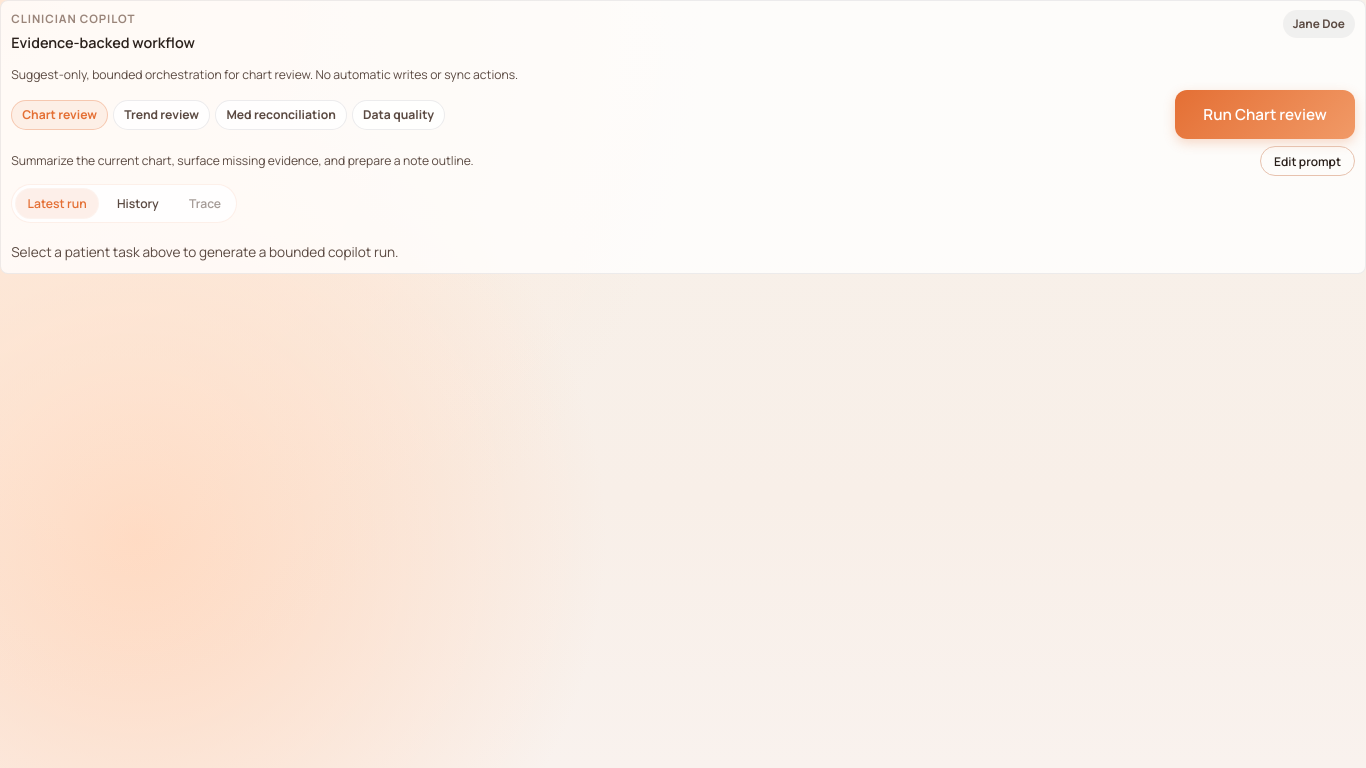
Test: runs a preset clinician copilot workflow and switches between latest run, history, and trace views
Check: the text "Clinician Copilot" is shown, box left=11, top=11, right=135, bottom=26
Check: the text "Select a patient task above to generate a bounded copilot run." is shown, box left=11, top=243, right=398, bottom=261
Click the button "Run Chart review" at point(1265, 115), box left=1175, top=90, right=1355, bottom=139
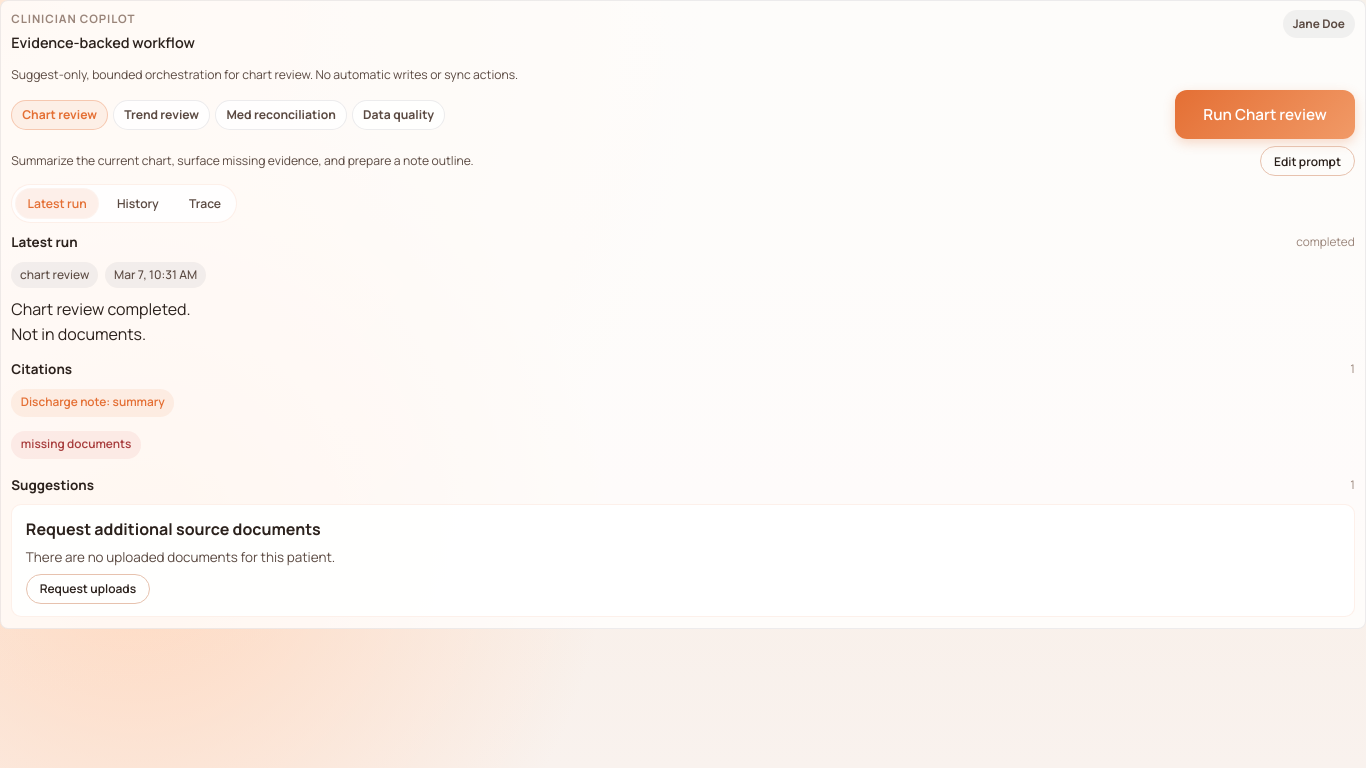
Check: the text "Chart review completed. Not in documents." is shown, box left=11, top=298, right=191, bottom=345
Check: the text "missing documents" is shown, box left=11, top=431, right=141, bottom=459
Check: the heading "Citations" is shown, box left=11, top=359, right=72, bottom=381
Click the button "Request uploads" at point(88, 589), box left=26, top=574, right=150, bottom=604
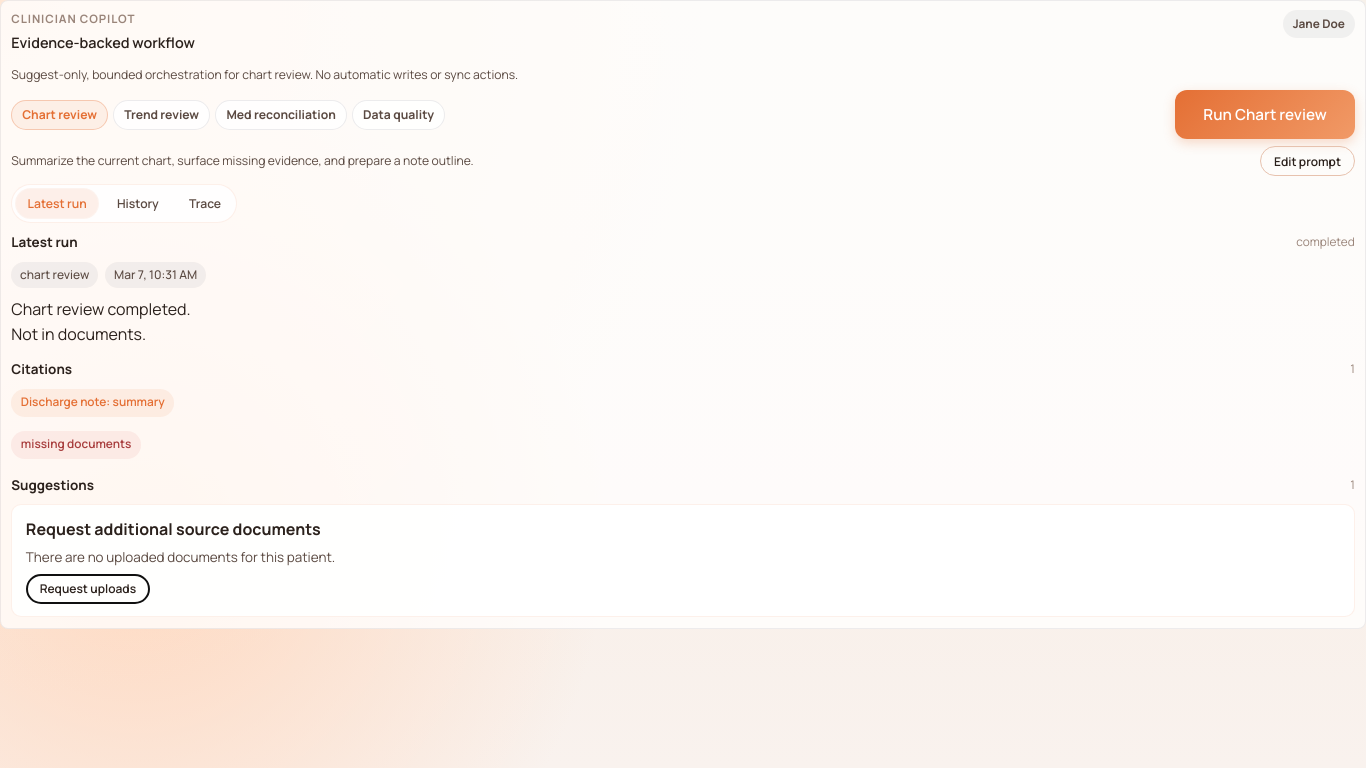
Click the tab "Trace" at point(205, 203), box left=178, top=189, right=233, bottom=218
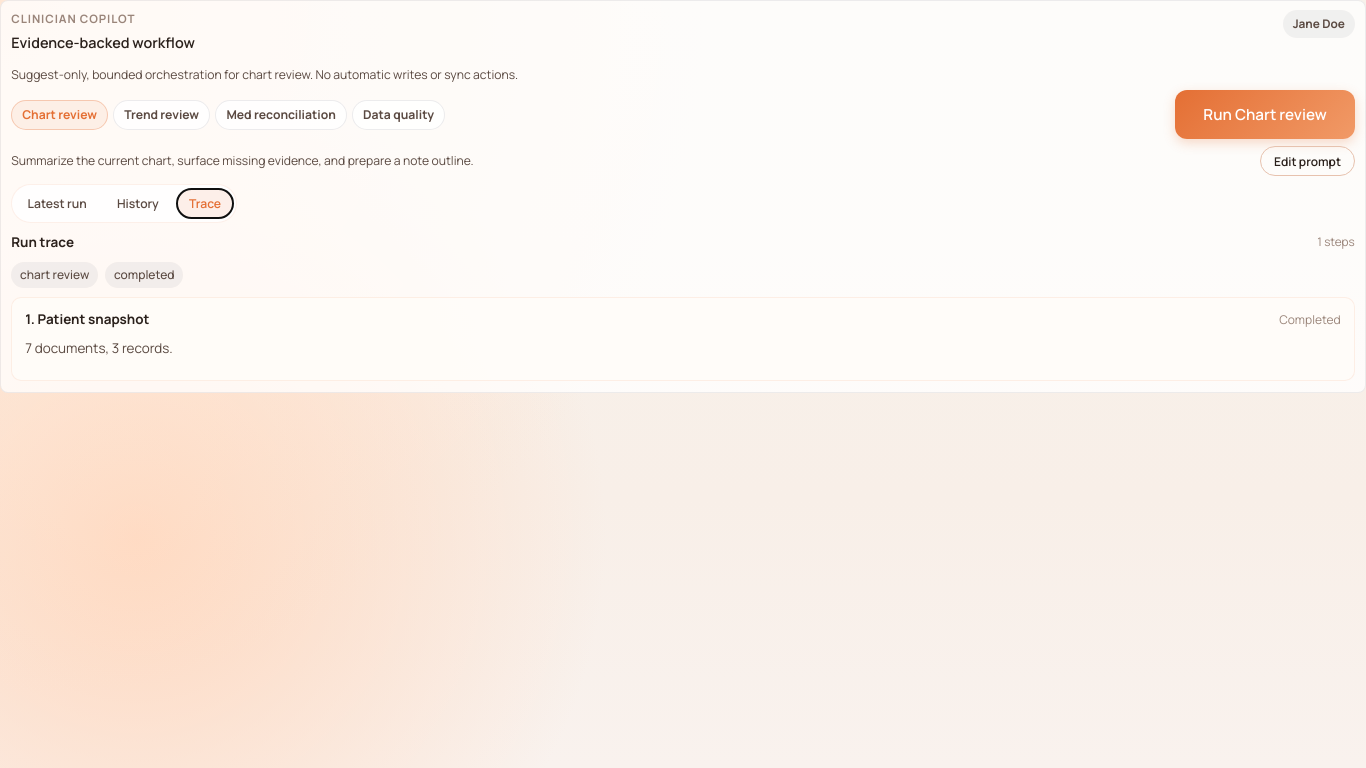
Check: the heading "Run trace" is shown, box left=11, top=232, right=74, bottom=253
Check: the text "1. Patient snapshot" is shown, box left=25, top=309, right=149, bottom=331
Click the tab "History" at point(138, 203), box left=105, top=189, right=170, bottom=218
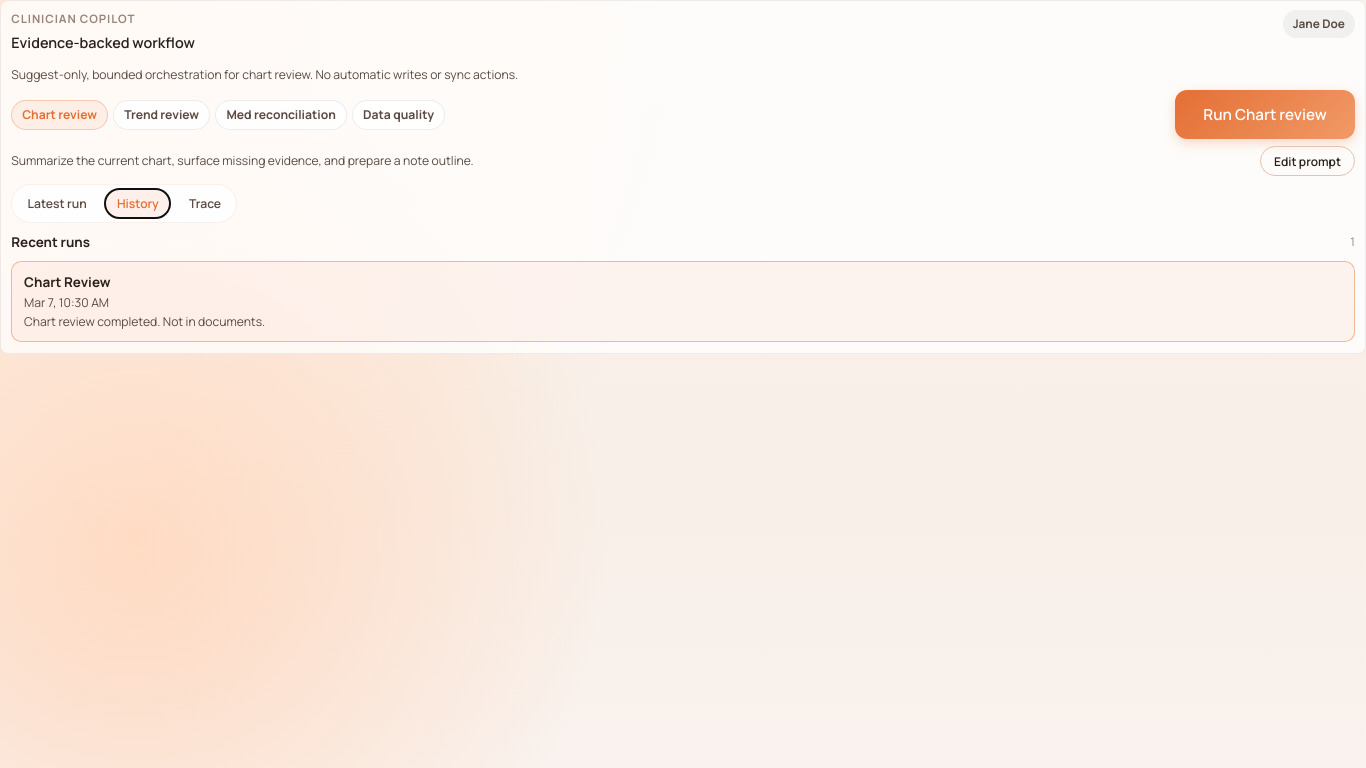
Check: the heading "Recent runs" is shown, box left=11, top=232, right=90, bottom=253
Check: the text "Chart review completed. Not in documents." is shown, box left=24, top=313, right=265, bottom=330
